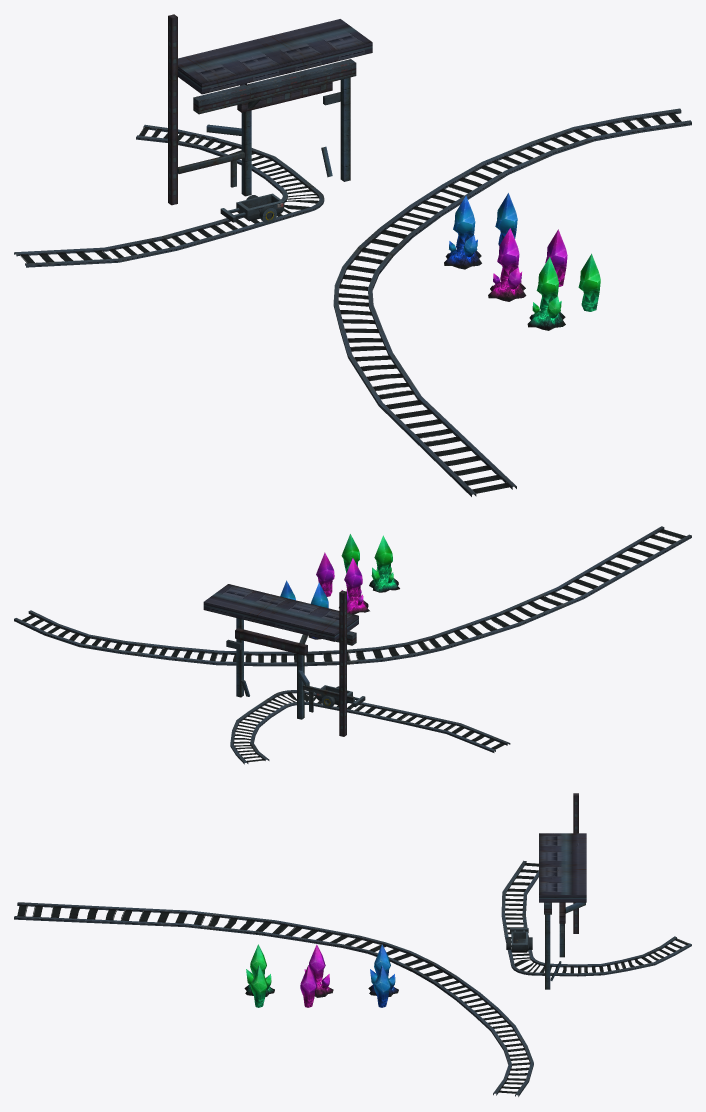
File: ts_sjkdobj001.FBX
3 renders of one model, top to bottom at view 1: azimuth 30°, elevation 25°; view 2: azimuth 150°, elevation 25°; view 3: azimuth 270°, elevation 25°, orthographic. The views are drawn at different scales.
Visible parts, largest first — view 1: ts_sjkdjsj002, ts_sjkdtg003, ts_sjkdtg001, ts_sjkdtg002, ts_sjkdjsj001, ts_sjkdtg004, ts_sjkdjsj005, ts_sjkdsj03, ts_sjkdsj06, ts_sjkdsj001, ts_sjkdtc001, ts_sjkdjsj009_ncl1_1 (+3 smaller); view 2: ts_sjkdtg001, ts_sjkdjsj002, ts_sjkdtg003, ts_sjkdtg002, ts_sjkdtg004, ts_sjkdjsj005, ts_sjkdsj06, ts_sjkdjsj012, ts_sjkdsj03, ts_sjkdsj04, ts_sjkdjsj009_ncl1_1, ts_sjkdtc001 (+2 smaller); view 3: ts_sjkdtg001, ts_sjkdtg003, ts_sjkdjsj002, ts_sjkdtg002, ts_sjkdtg004, ts_sjkdsj03, ts_sjkdsj06, ts_sjkdsj001, ts_sjkdtc001, ts_sjkdsj05, ts_sjkdsj04, ts_sjkdsj002.
Part boxes in pixels (x1=…): ts_sjkdjsj002: x1=178, y1=19, x2=372, y2=94; ts_sjkdtg003: x1=338, y1=113, x2=681, y2=493; ts_sjkdtg001: x1=333, y1=108, x2=691, y2=496; ts_sjkdtg002: x1=14, y1=124, x2=324, y2=267; ts_sjkdjsj001: x1=193, y1=59, x2=356, y2=114; ts_sjkdtg004: x1=19, y1=126, x2=319, y2=263; ts_sjkdjsj005: x1=168, y1=14, x2=177, y2=205; ts_sjkdsj03: x1=488, y1=228, x2=526, y2=301; ts_sjkdsj06: x1=527, y1=257, x2=565, y2=330; ts_sjkdsj001: x1=444, y1=195, x2=481, y2=269; ts_sjkdtc001: x1=220, y1=193, x2=284, y2=223; ts_sjkdjsj009_ncl1_1: x1=340, y1=77, x2=350, y2=181; ts_sjkdtg001: x1=14, y1=526, x2=691, y2=666; ts_sjkdjsj002: x1=203, y1=584, x2=358, y2=641; ts_sjkdtg003: x1=22, y1=529, x2=685, y2=662; ts_sjkdtg002: x1=230, y1=690, x2=510, y2=764; ts_sjkdtg004: x1=233, y1=692, x2=505, y2=762; ts_sjkdjsj005: x1=339, y1=590, x2=346, y2=736; ts_sjkdsj06: x1=369, y1=535, x2=399, y2=592; ts_sjkdjsj012: x1=235, y1=628, x2=307, y2=655; ts_sjkdsj03: x1=339, y1=558, x2=369, y2=614; ts_sjkdsj04: x1=316, y1=552, x2=334, y2=596; ts_sjkdjsj009_ncl1_1: x1=236, y1=618, x2=243, y2=697; ts_sjkdtc001: x1=316, y1=685, x2=365, y2=707; ts_sjkdtg001: x1=14, y1=902, x2=533, y2=1096; ts_sjkdtg003: x1=17, y1=904, x2=530, y2=1093; ts_sjkdjsj002: x1=539, y1=833, x2=586, y2=902; ts_sjkdtg002: x1=501, y1=860, x2=691, y2=976; ts_sjkdtg004: x1=505, y1=862, x2=688, y2=973; ts_sjkdsj03: x1=304, y1=944, x2=333, y2=997; ts_sjkdsj06: x1=244, y1=944, x2=274, y2=996; ts_sjkdsj001: x1=368, y1=944, x2=398, y2=996; ts_sjkdtc001: x1=506, y1=928, x2=532, y2=952; ts_sjkdsj05: x1=251, y1=965, x2=267, y2=1007; ts_sjkdsj04: x1=300, y1=965, x2=316, y2=1007; ts_sjkdsj002: x1=374, y1=965, x2=390, y2=1007.
Bounding box in the file's own units: 41.55 × 11.46 × 50.66.
